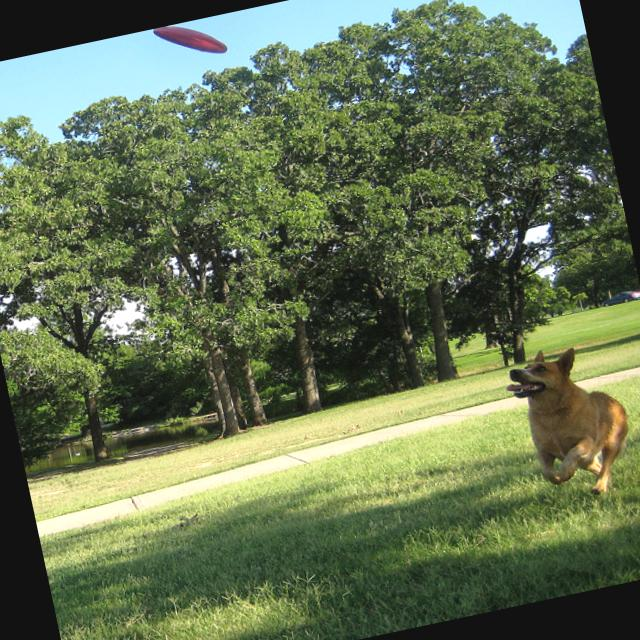Vehicle: (598, 286, 640, 307)
